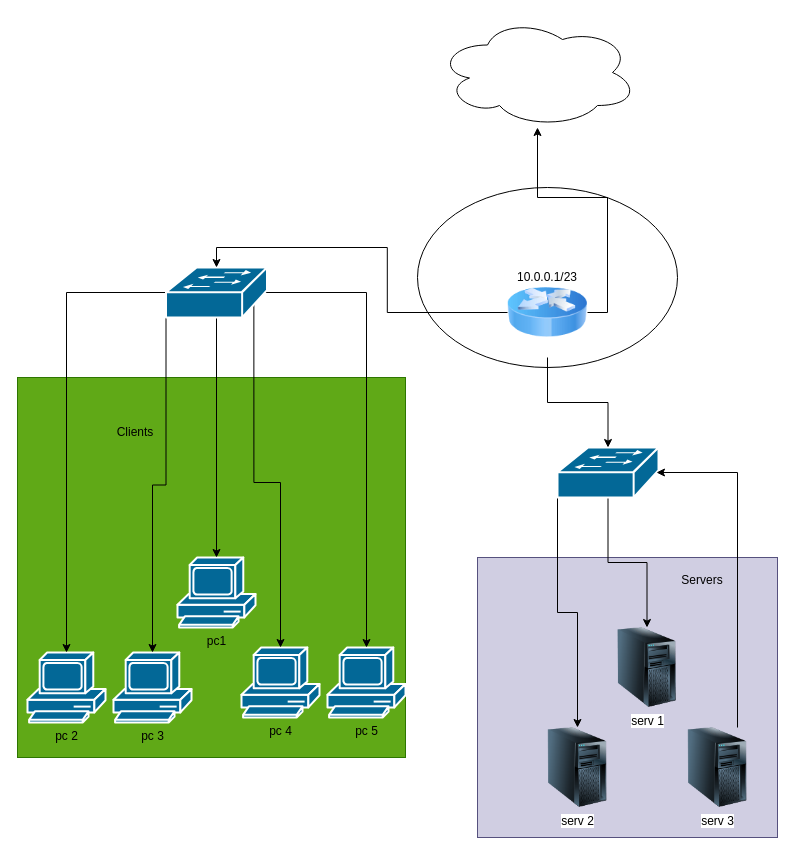
Image size: 795x855. Some labels were removed from this diagram. Each missing label, with the centre of its shape:
"severen" goes at [537,72].
"sw 1" goes at [216,292].
"sw 2" goes at [607,472].
